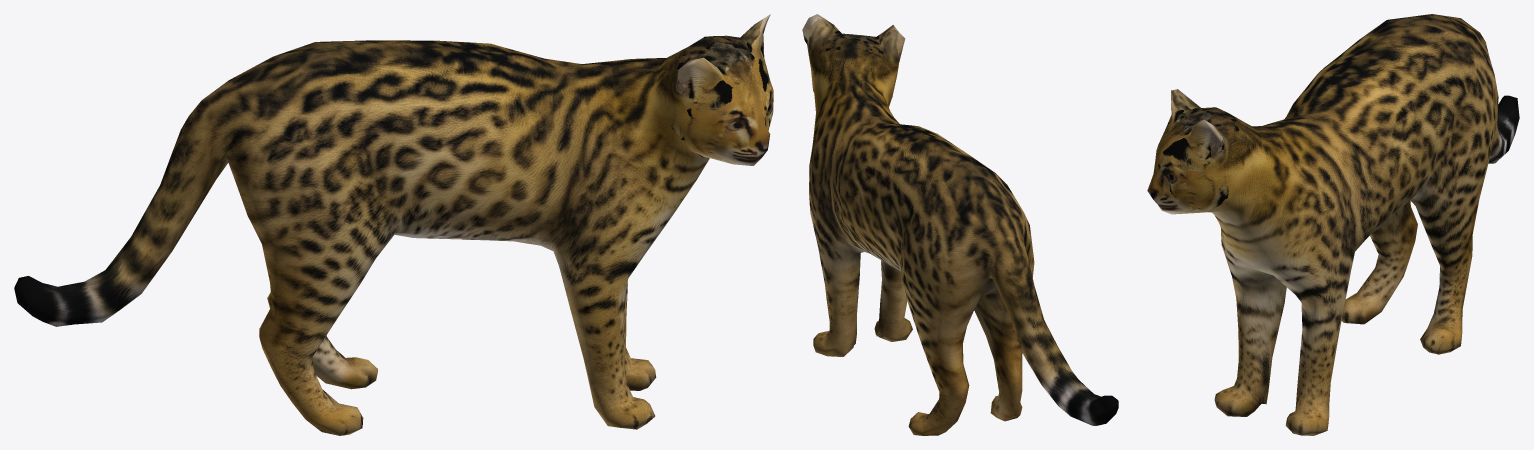
Rendered from ocelot_single_1500.glb.
3 renders of one model, left to right at view 1: azimuth 30°, elevation 25°; view 2: azimuth 150°, elevation 25°; view 3: azimuth 270°, elevation 25°, orthographic. The views are drawn at different scales.
Bounding box in the file's own units: 0.8925 × 0.5761 × 0.5572.
Materials: 1 (1 with a texture image).
